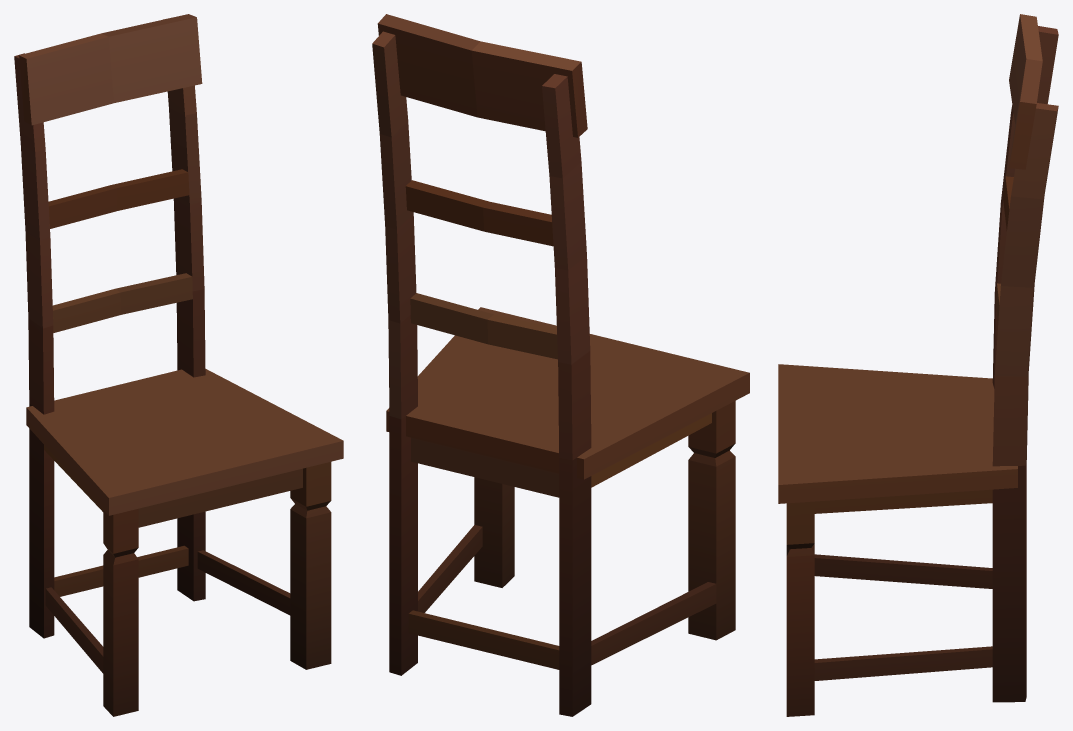
Rendered from Furniture_ChairC.fbx.
The picture shows the model from 3 angles, left to right: view 1: azimuth 30°, elevation 25°; view 2: azimuth 150°, elevation 25°; view 3: azimuth 270°, elevation 25°; orthographic projection. The views are drawn at different scales.
Visible parts, largest first — view 1: Furniture_ChairC; view 2: Furniture_ChairC; view 3: Furniture_ChairC.
Part boxes in pixels (bbox=[...]): Furniture_ChairC: bbox=[14, 14, 343, 716]; Furniture_ChairC: bbox=[372, 14, 749, 716]; Furniture_ChairC: bbox=[778, 14, 1058, 716].
Bounding box in the file's own units: 73.18 × 170 × 71.68.
